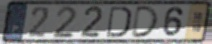2: (52, 5, 78, 39), (80, 5, 105, 39), (26, 6, 51, 39)
6: (162, 6, 185, 38)
D: (130, 5, 161, 39), (105, 6, 132, 39)
